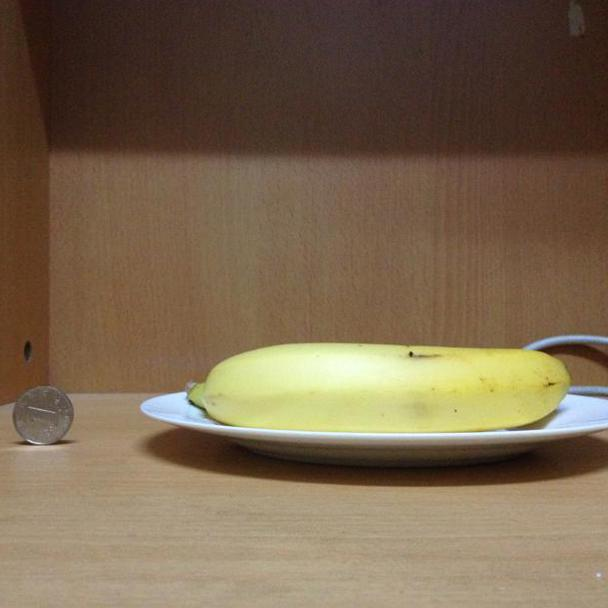banana: (188, 340, 574, 429)
